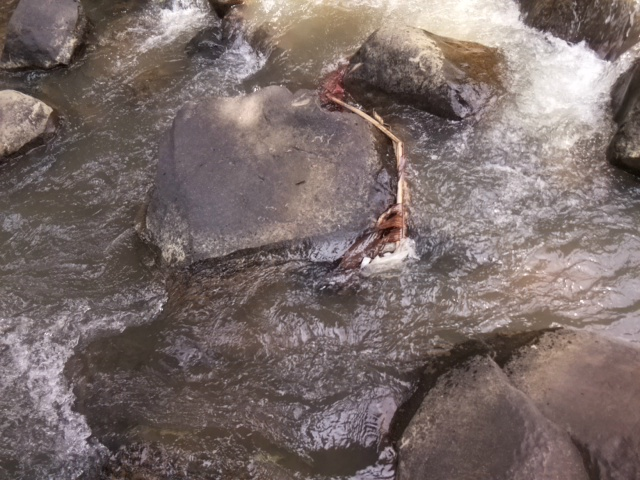Sampah_Plastik: (318, 67, 351, 106)
